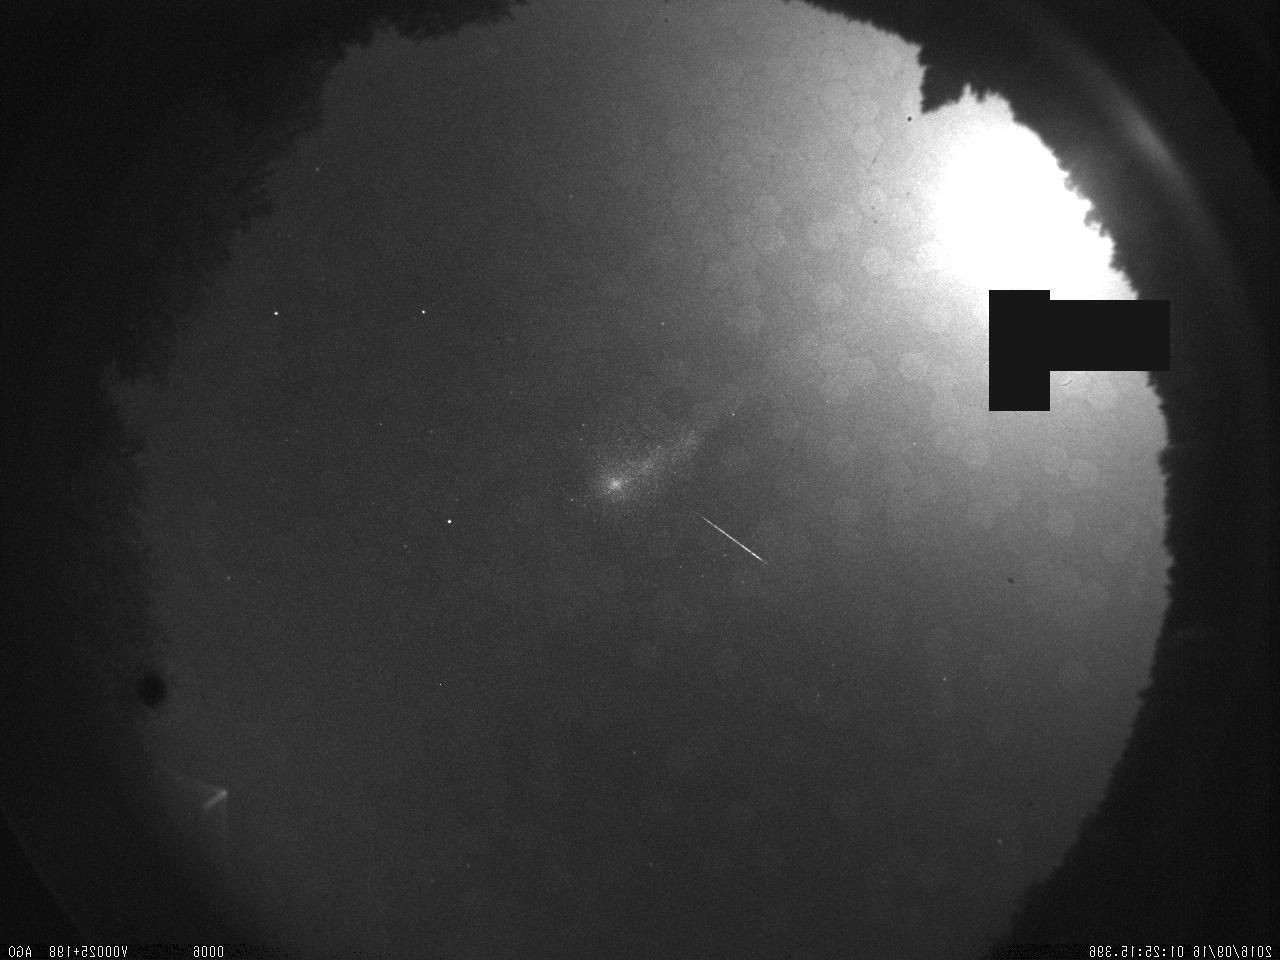meteor: (687, 497, 778, 581)
